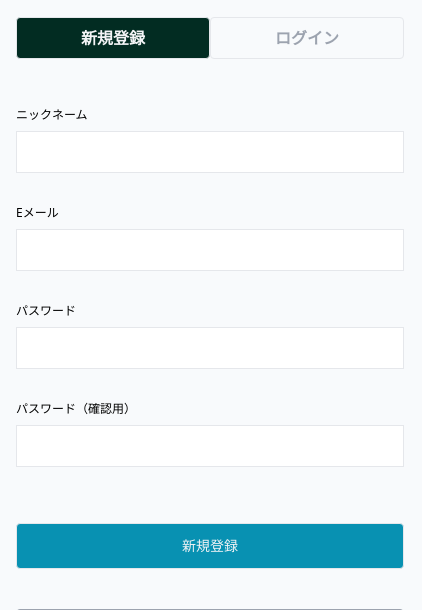
it: ログインボタンを押すと、画面が切り替わること
Click the button "ログイン" at (307, 38), box [210, 17, 404, 59]
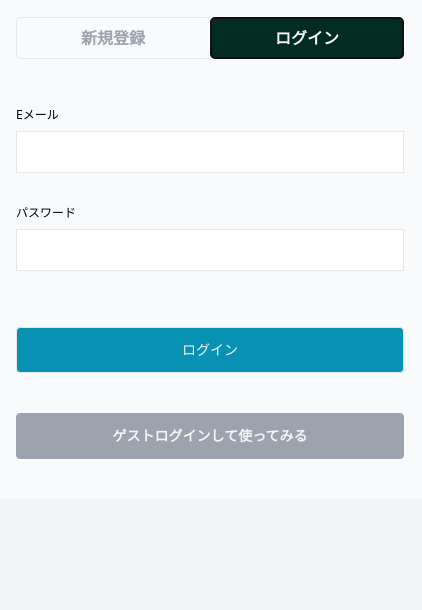
expect the label labelled "パスワード（確認用）" is gone: met
